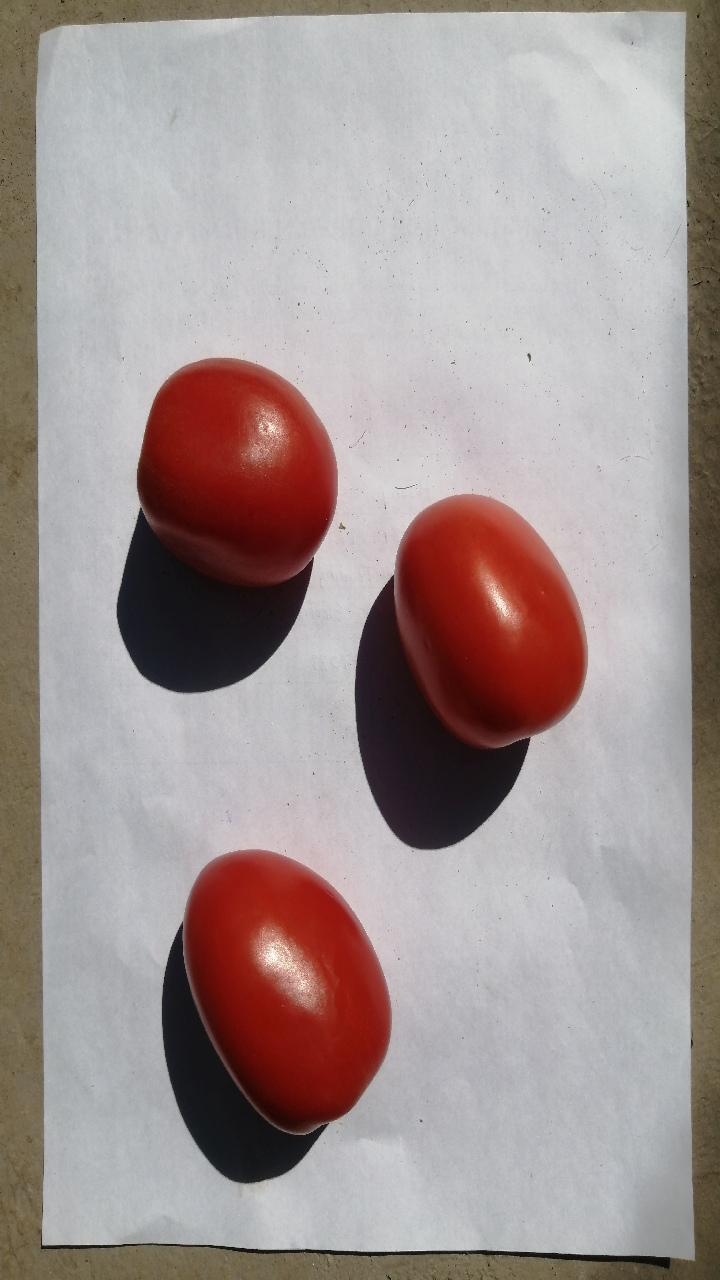tomateRojo: (169, 831, 395, 1149), (114, 329, 358, 623), (374, 477, 598, 769)
